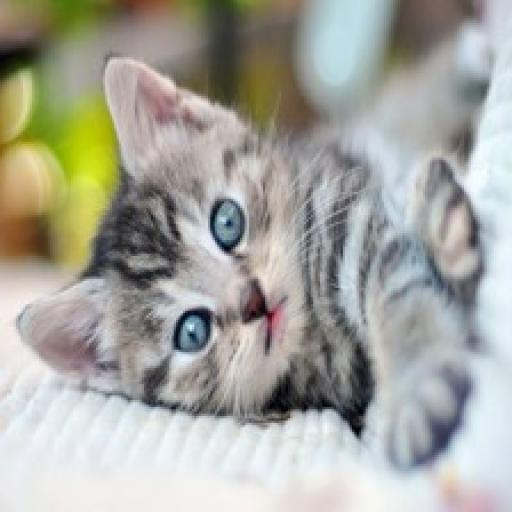cat: (9, 49, 512, 467)
